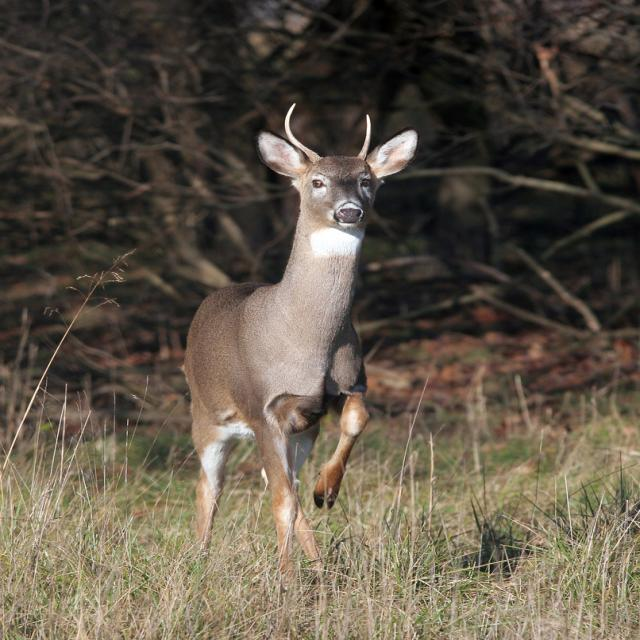Deer: (178, 103, 418, 591)
